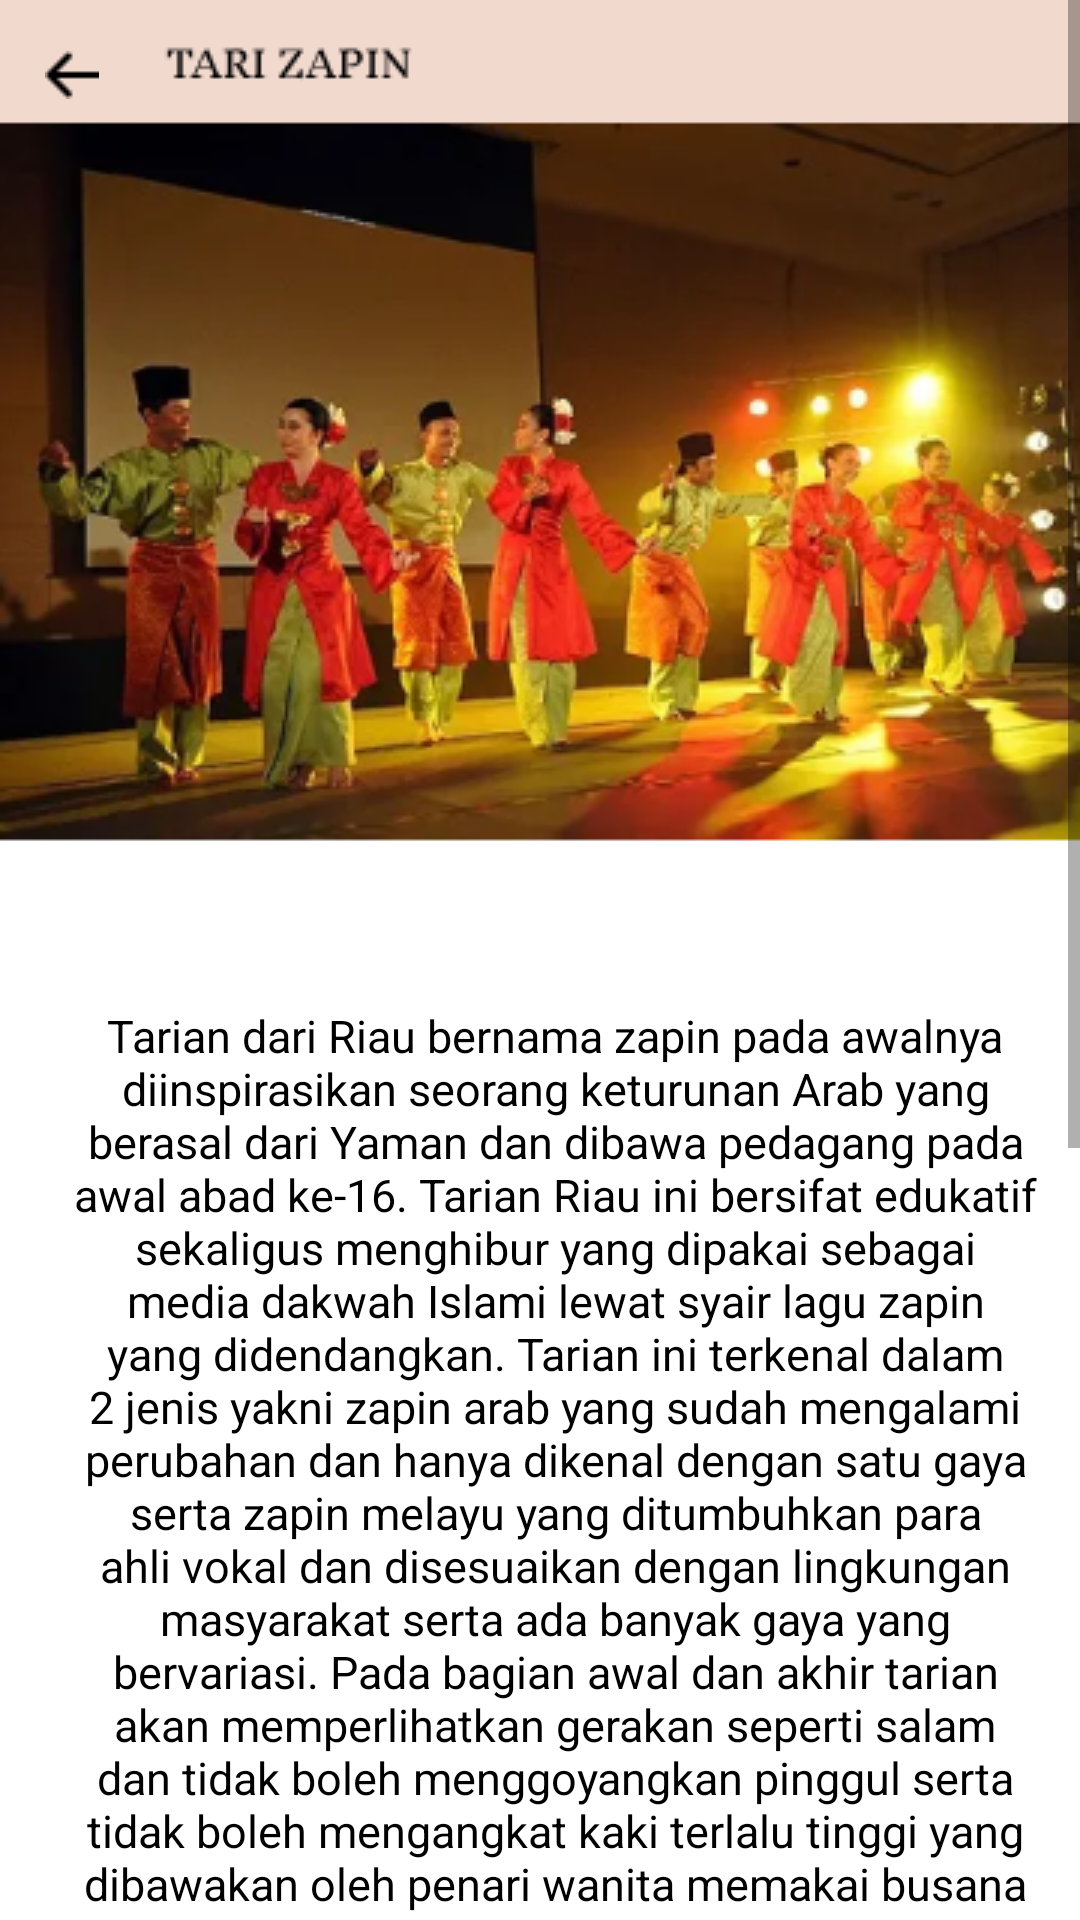

Where to tap for icons on this 1080 x 1920 app screen, as (x=x, y=y):
back: (x=72, y=75)
